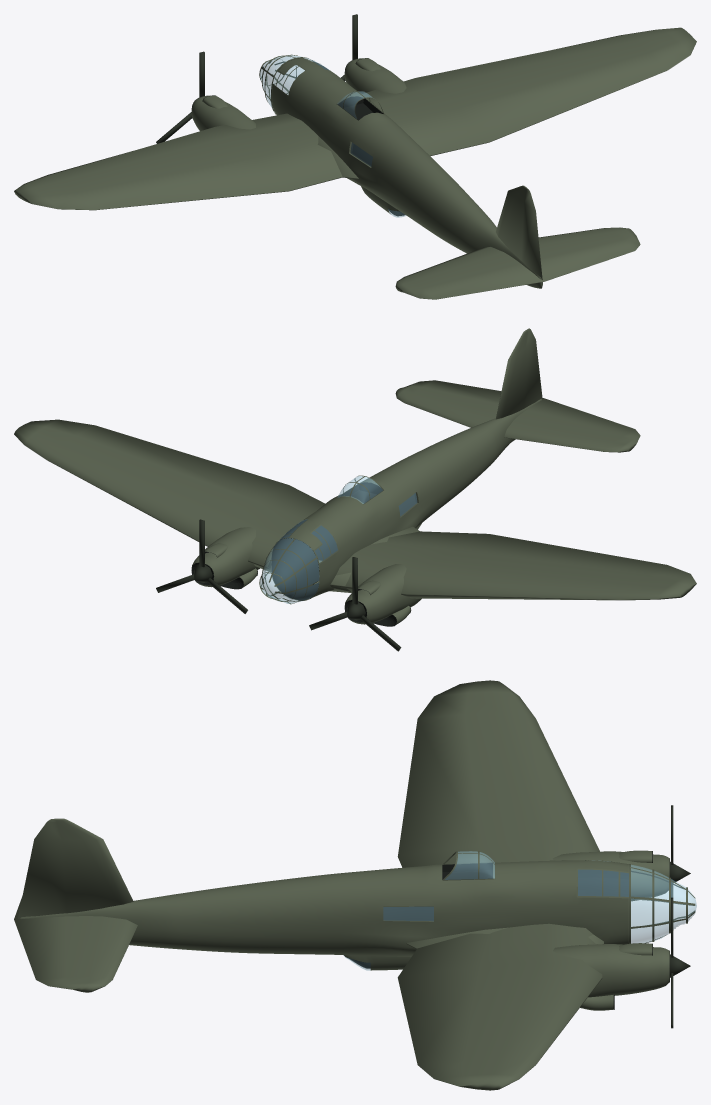
The picture shows the model from 3 angles, top to bottom: view 1: azimuth 30°, elevation 25°; view 2: azimuth 150°, elevation 25°; view 3: azimuth 270°, elevation 25°; orthographic projection. The views are drawn at different scales.
Parts seen in each view (by area): view 1: Mesh_31, Mesh_30, Mesh_33, Mesh_19, Mesh_3, Mesh_10, Mesh_1, Mesh_2, Mesh_29, Mesh_0; view 2: Mesh_31, Mesh_30, Mesh_33, Mesh_0, Mesh_29, Mesh_19, Mesh_10, Mesh_3, Mesh_1, Mesh_2; view 3: Mesh_31, Mesh_30, Mesh_19, Mesh_33, Mesh_3, Mesh_0, Mesh_1, Mesh_10, Mesh_2, Mesh_29.
Part boxes in pixels (x1,y1,x2,y2): Mesh_31: (14, 27, 696, 210); Mesh_30: (271, 57, 542, 288); Mesh_33: (395, 227, 640, 299); Mesh_19: (496, 185, 542, 283); Mesh_3: (344, 58, 406, 93); Mesh_10: (191, 95, 255, 130); Mesh_1: (273, 58, 372, 166); Mesh_2: (259, 54, 383, 120); Mesh_29: (343, 103, 404, 216); Mesh_0: (260, 55, 301, 108); Mesh_31: (14, 419, 696, 600); Mesh_30: (280, 398, 541, 598); Mesh_33: (395, 380, 640, 452); Mesh_0: (260, 538, 319, 603); Mesh_29: (271, 490, 417, 600); Mesh_19: (496, 328, 542, 419); Mesh_10: (344, 564, 421, 624); Mesh_3: (191, 527, 259, 587); Mesh_1: (278, 476, 417, 562); Mesh_2: (259, 475, 383, 604); Mesh_31: (397, 680, 603, 1090); Mesh_30: (20, 860, 628, 970); Mesh_19: (18, 818, 133, 918); Mesh_33: (14, 896, 137, 992); Mesh_3: (553, 944, 669, 997); Mesh_0: (631, 864, 696, 943); Mesh_1: (383, 851, 628, 921); Mesh_10: (553, 851, 669, 901); Mesh_2: (442, 851, 695, 943); Mesh_29: (347, 869, 492, 968).
Size of the model in its own units: 22.6 by 3.92 by 16.21.
